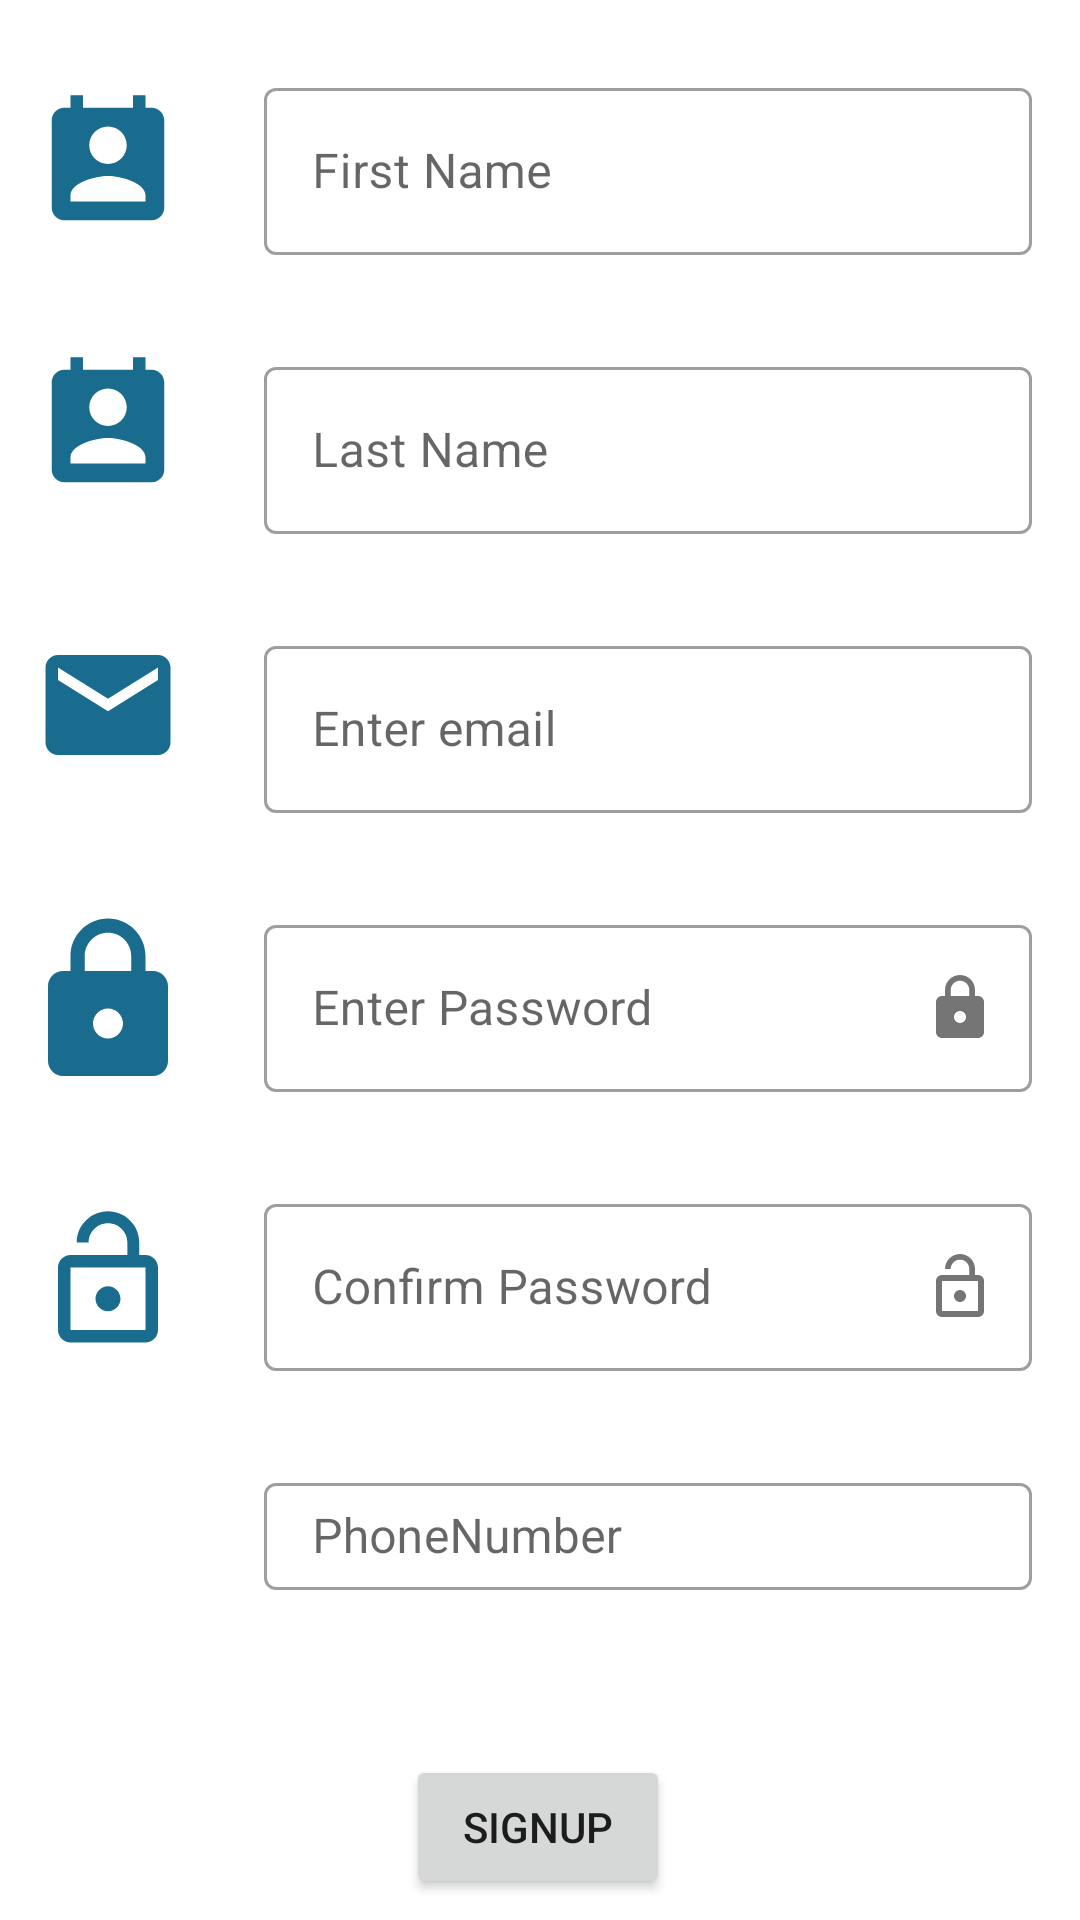

Icons on this 1080*1920 Android screen, each with the point to tap as (x=x, y=y):
lock: (x=108, y=997)
lock open: (x=108, y=1277)
perm contact calendar: (x=108, y=158), (x=108, y=420)
